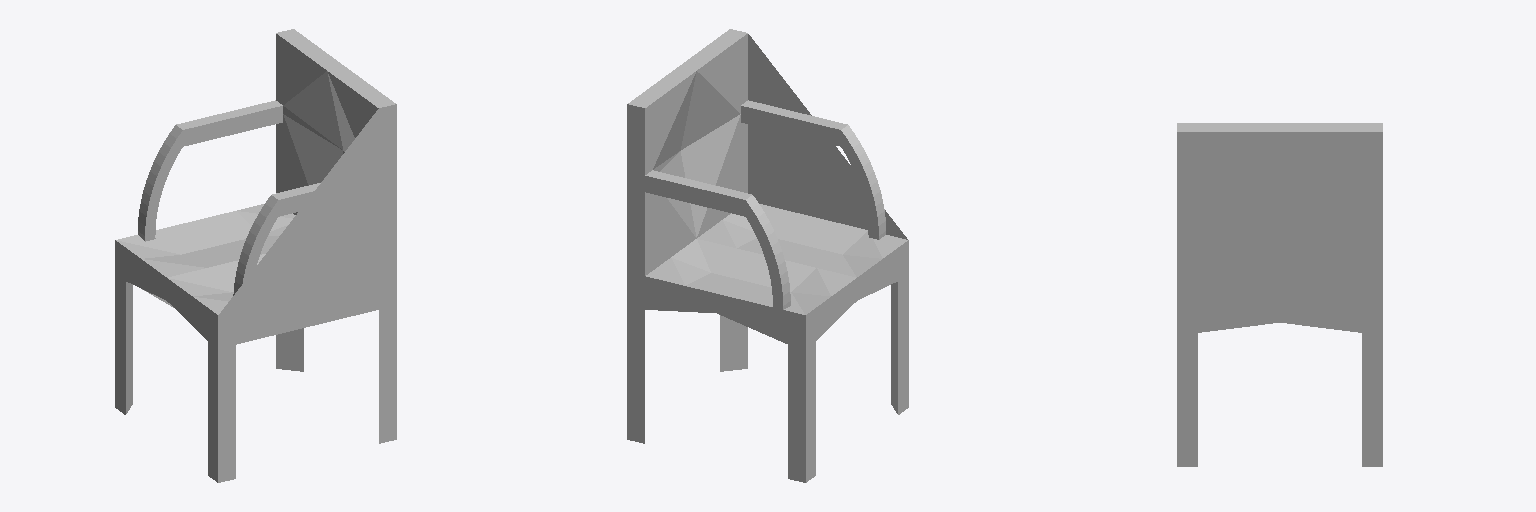
The model's file is silla_ext_2.obj.
The picture shows the model from 3 angles: view 1: azimuth 30°, elevation 25°; view 2: azimuth 150°, elevation 25°; view 3: azimuth 270°, elevation 25°; orthographic projection.
Visible parts, largest first — view 1: Cubo.018_Cubo.035; view 2: Cubo.018_Cubo.035; view 3: Cubo.018_Cubo.035.
Boxes of the visible parts, <box> form: Cubo.018_Cubo.035: <box>115,29,396,482</box>; Cubo.018_Cubo.035: <box>627,29,908,482</box>; Cubo.018_Cubo.035: <box>1177,123,1382,466</box>.
Size of the model in its own units: 0.5 by 0.9 by 0.5.